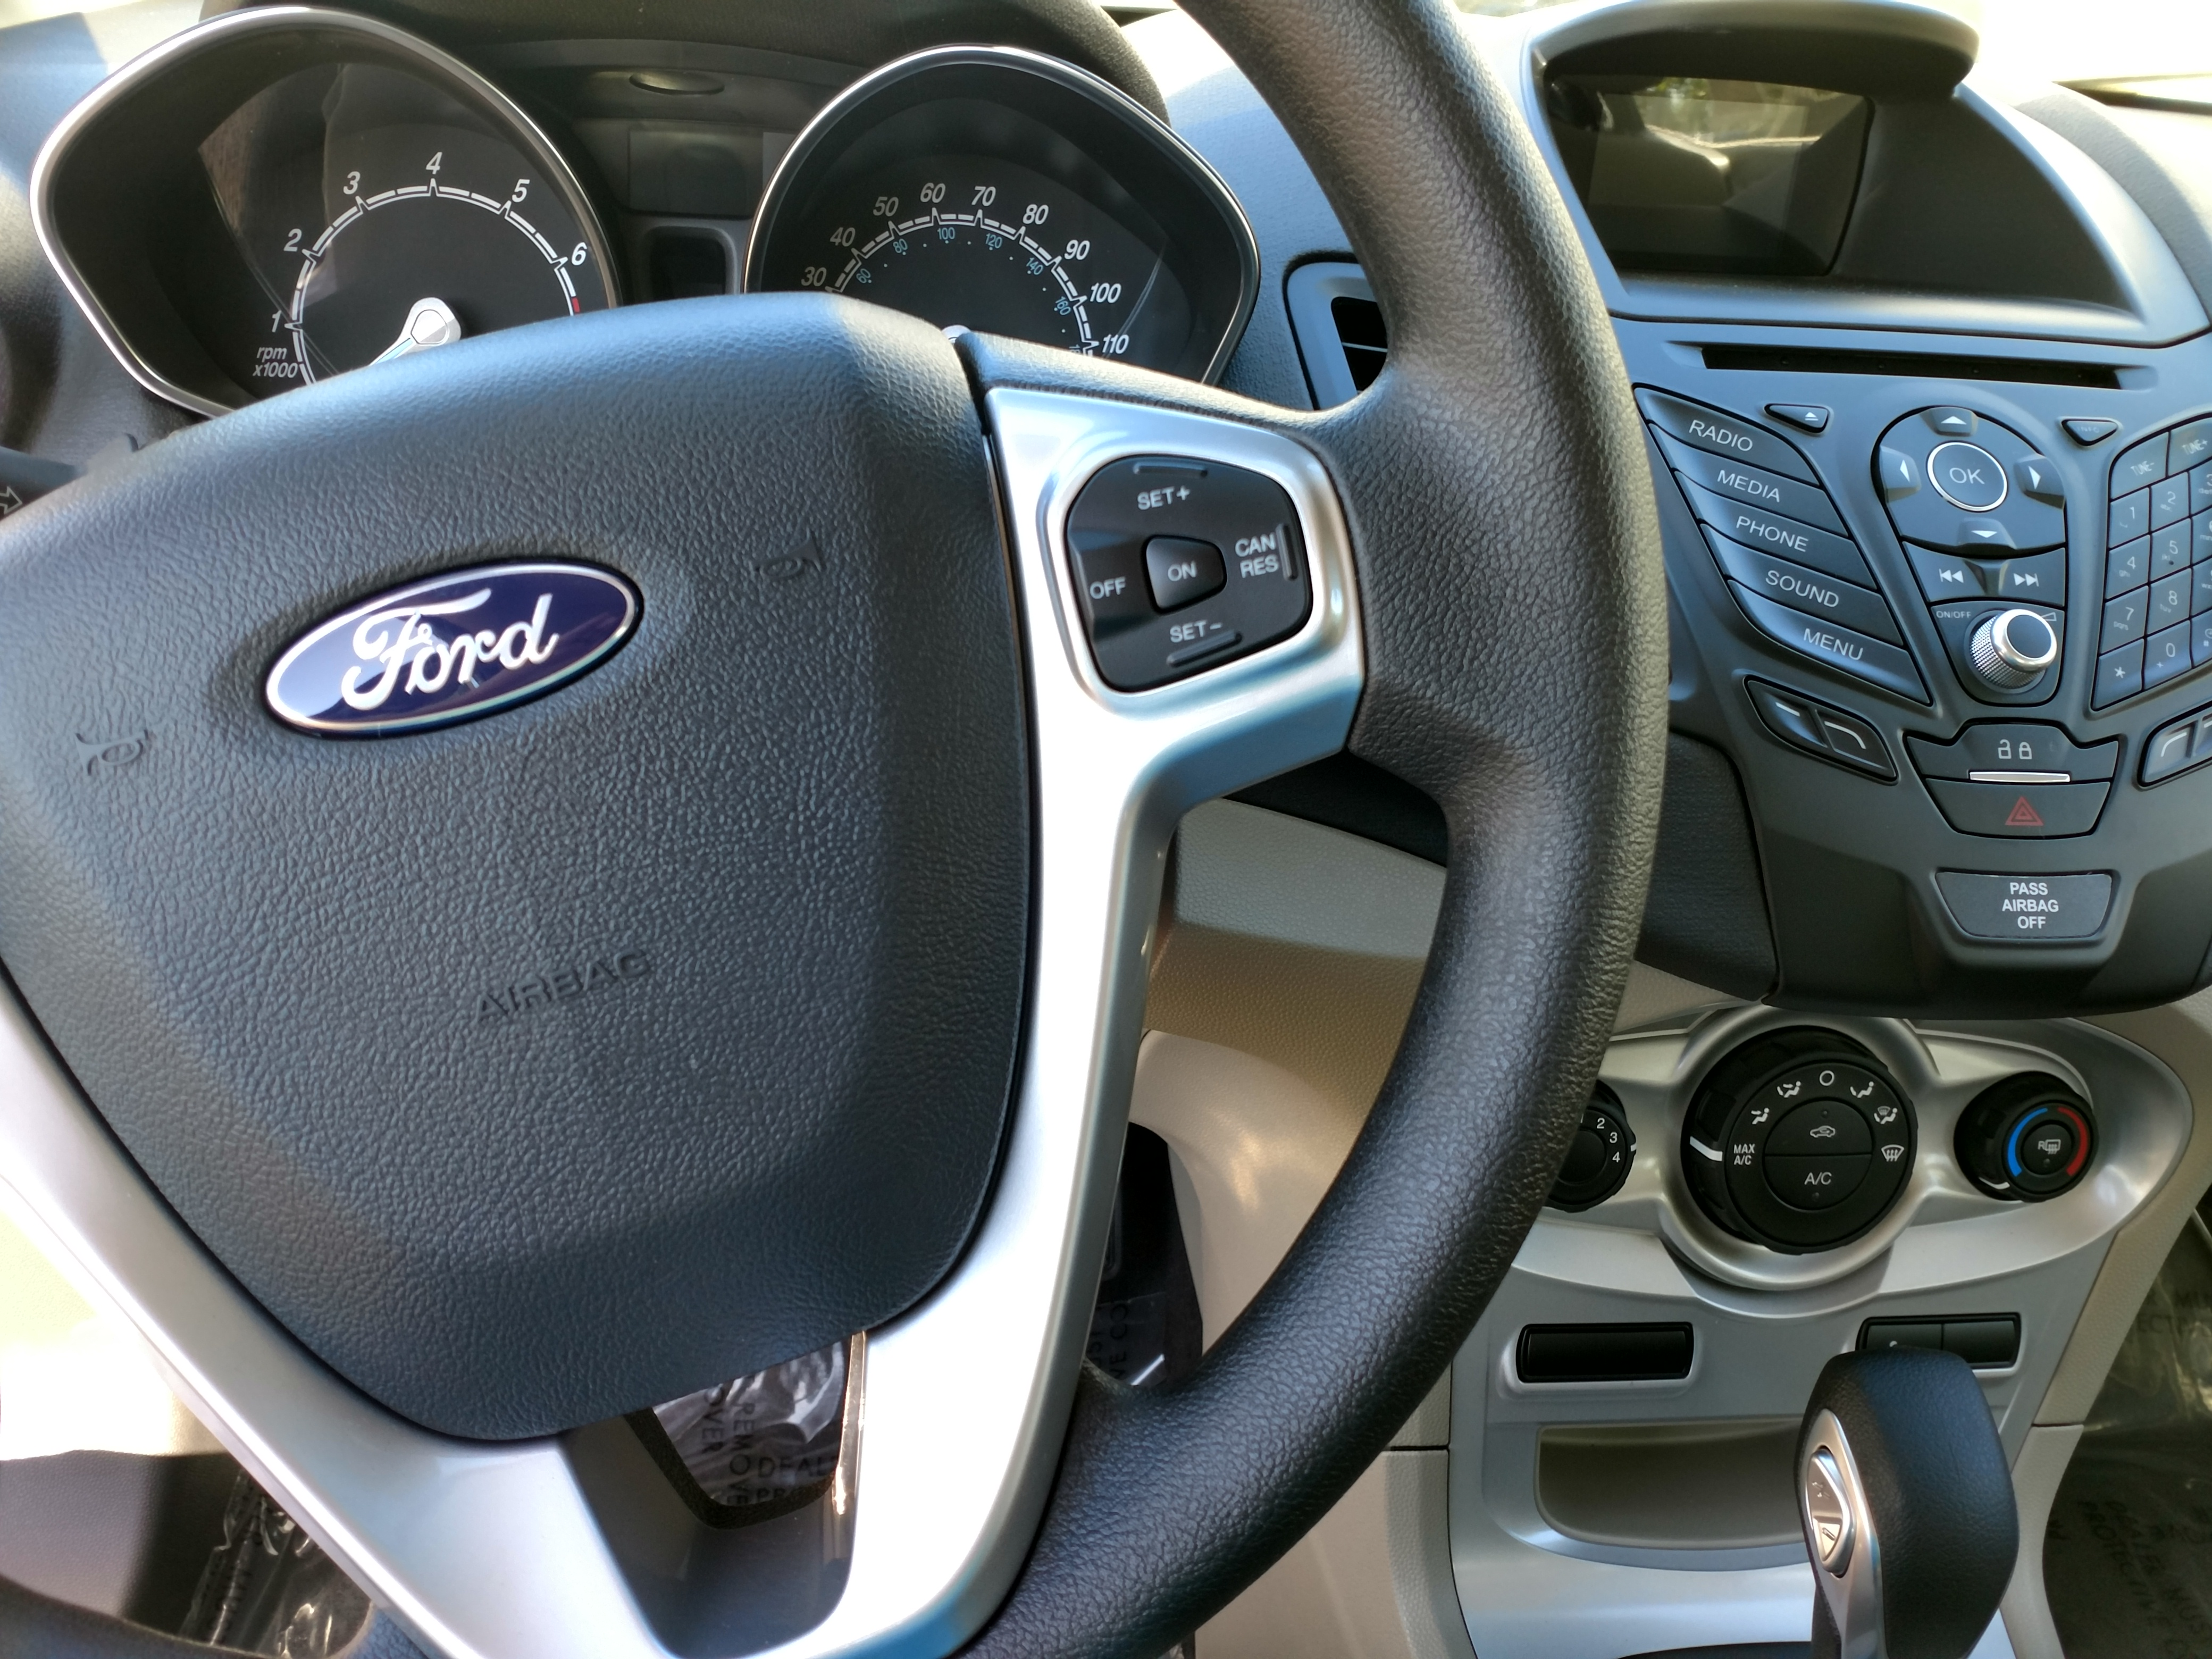Ford: (199, 535, 691, 748)
